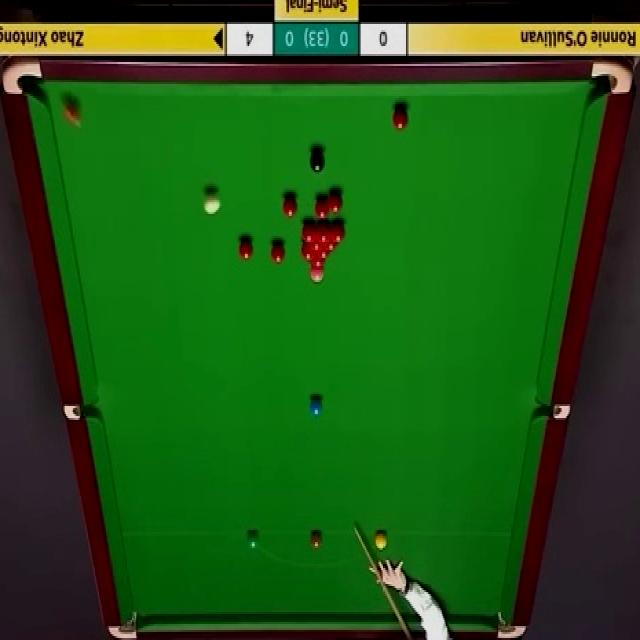black-ball: (309, 144, 325, 174)
blue-ball: (308, 394, 323, 415)
brown-ball: (310, 530, 323, 550)
green-ball: (246, 532, 260, 548)
pink-ball: (310, 271, 326, 284)
red-ball: (64, 100, 80, 129), (392, 103, 409, 130), (283, 193, 300, 218), (327, 190, 343, 214), (270, 241, 286, 265), (239, 237, 253, 261), (316, 224, 332, 243), (315, 197, 328, 219), (302, 224, 317, 242), (300, 245, 316, 261), (331, 223, 345, 241), (308, 240, 324, 253), (321, 241, 338, 252), (315, 251, 331, 260), (310, 260, 326, 269)
white-ball: (204, 188, 221, 216)
yellow-ball: (373, 531, 387, 551)
